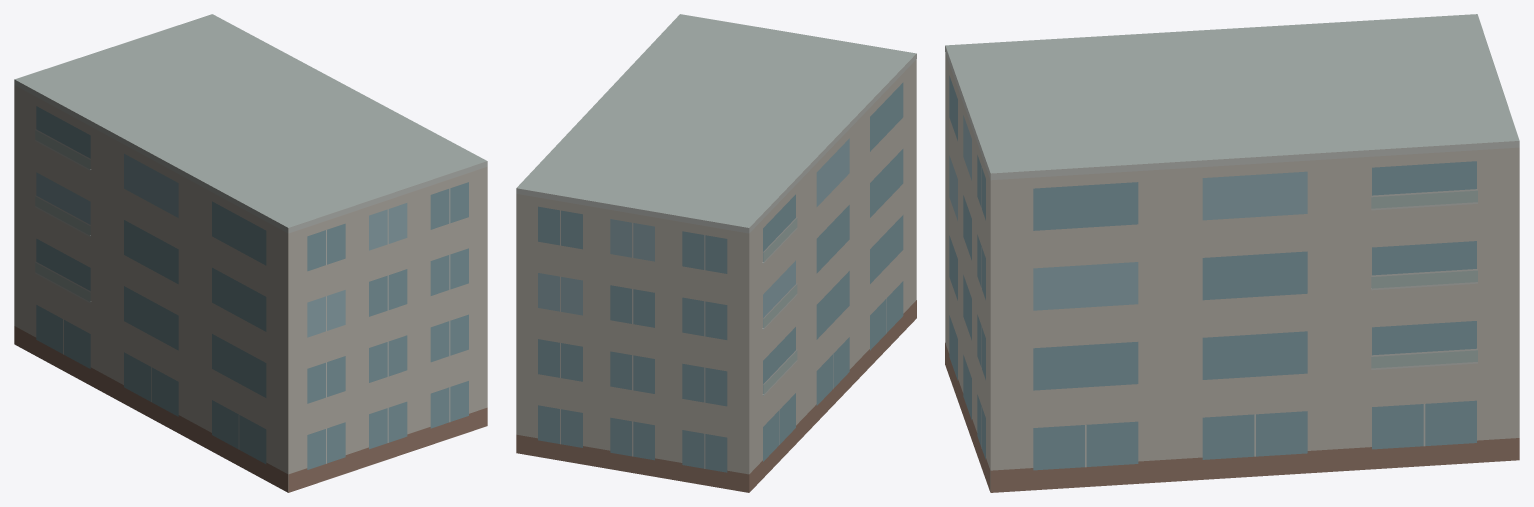
The model's file is survey-upis-32576644.glb.
3 renders of one model, left to right at view 1: azimuth 30°, elevation 25°; view 2: azimuth 150°, elevation 25°; view 3: azimuth 270°, elevation 25°, orthographic. The views are drawn at different scales.
Visible parts, largest first — view 1: survey-upis-32576644.tmp; view 2: survey-upis-32576644.tmp; view 3: survey-upis-32576644.tmp.
Boxes of the visible parts, left/top/right/bottom form: survey-upis-32576644.tmp: left=14, top=14, right=487, bottom=492; survey-upis-32576644.tmp: left=516, top=14, right=916, bottom=492; survey-upis-32576644.tmp: left=945, top=14, right=1519, bottom=492.
Size of the model in its own units: 12.44 by 11.6 by 18.92.
